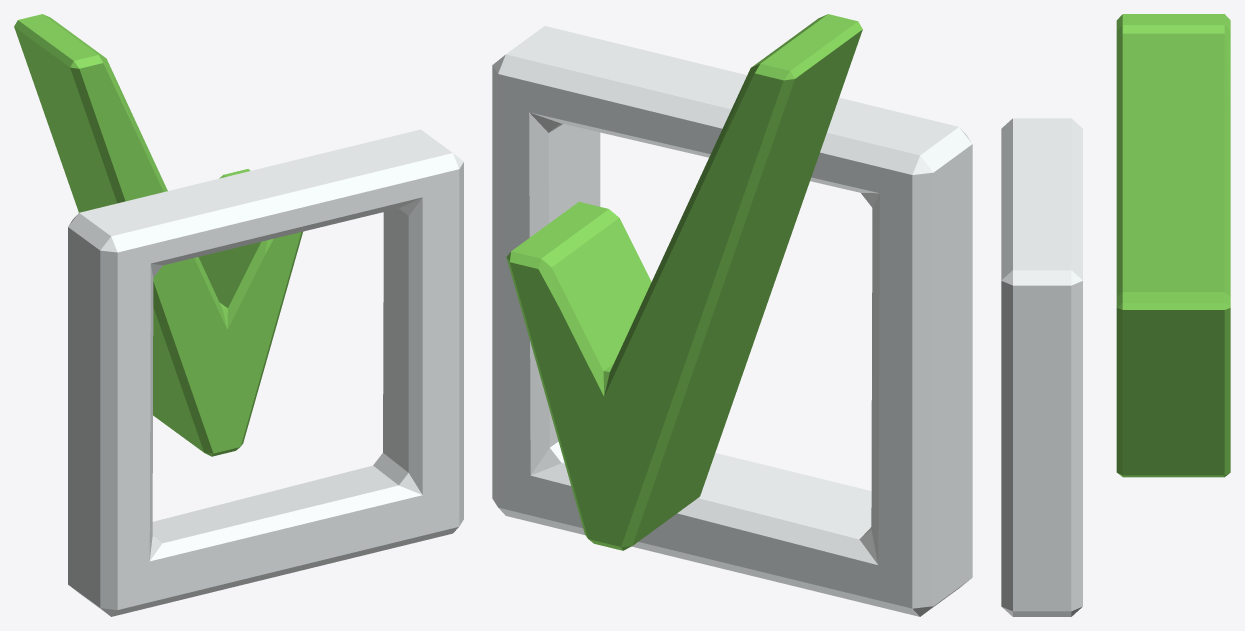
Rendered from end.glb.
3 renders of one model, left to right at view 1: azimuth 30°, elevation 25°; view 2: azimuth 150°, elevation 25°; view 3: azimuth 270°, elevation 25°, orthographic. The views are drawn at different scales.
Visible parts, largest first — view 1: Cube; view 2: Cube; view 3: Cube.
Boxes of the visible parts, left/top/right/bottom form: Cube: left=14, top=14, right=463, bottom=616; Cube: left=492, top=14, right=972, bottom=616; Cube: left=1001, top=14, right=1230, bottom=616.
Bounding box in the file's own units: 6.72 × 8.93 × 4.03.
1 material, 1 textured.
